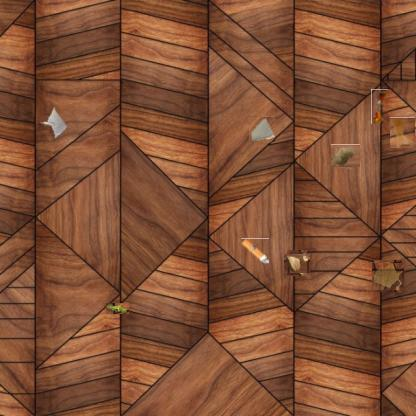dirty: (39, 107, 69, 138), (332, 143, 359, 169), (241, 238, 269, 263), (249, 116, 275, 142), (371, 89, 388, 124), (286, 252, 308, 274), (105, 302, 129, 314)
liquid: (373, 261, 403, 291), (389, 117, 415, 148)
